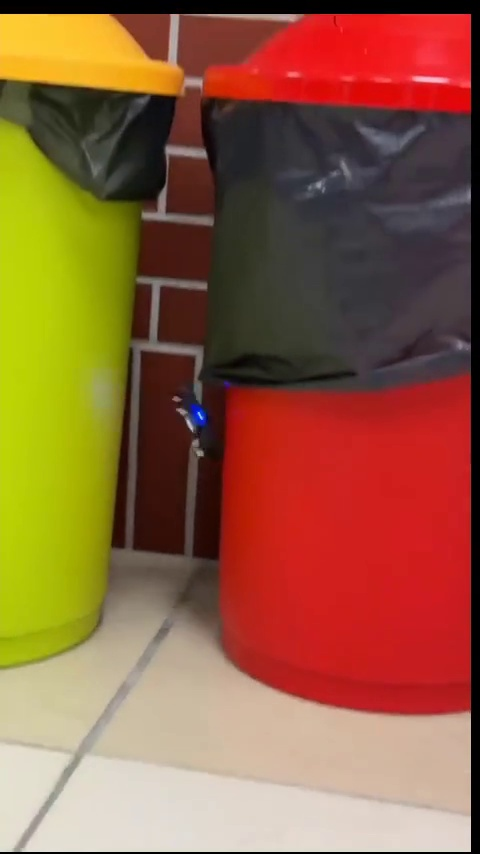drone: (163, 386, 218, 455)
